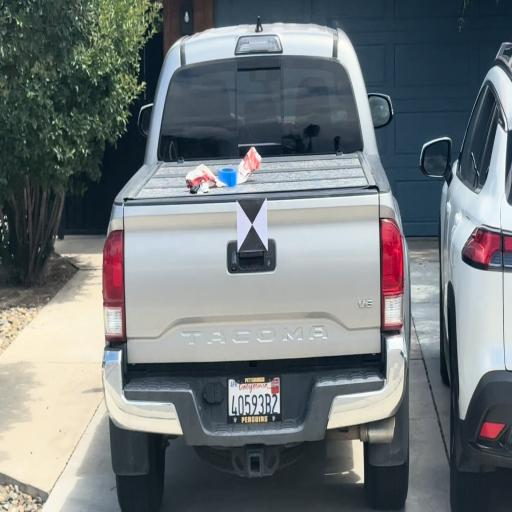target: (237, 200, 268, 250)
